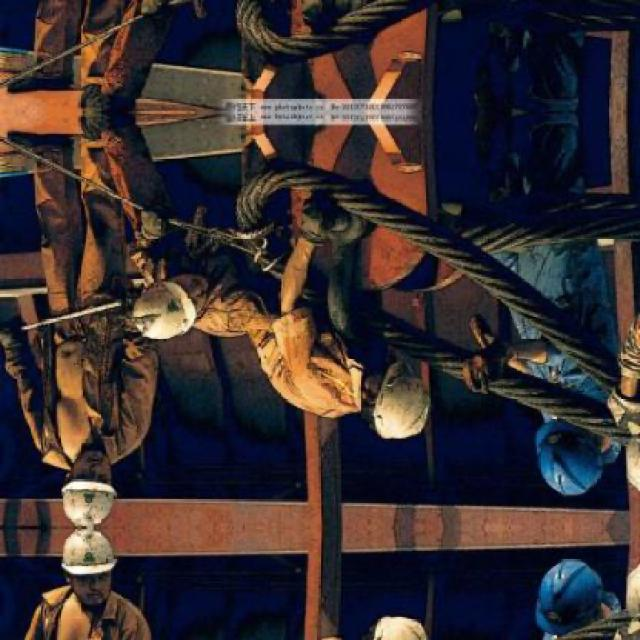con casco: (485, 367, 630, 495), (274, 338, 419, 464), (95, 252, 231, 362), (12, 452, 127, 530)
